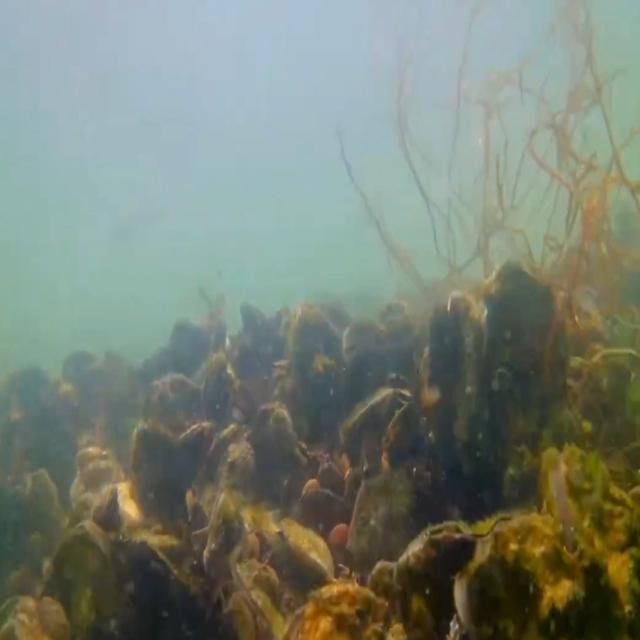Oyster-Closed: (366, 511, 513, 640), (230, 559, 285, 640), (203, 483, 246, 580), (95, 482, 121, 534)
Oyster-Indeterminate: (454, 512, 626, 640), (483, 254, 568, 447), (37, 518, 129, 640), (428, 290, 487, 450), (122, 537, 208, 640), (129, 418, 192, 538), (347, 469, 416, 570), (20, 467, 64, 577), (281, 517, 336, 582)
Oyster-Open: (538, 445, 640, 637), (339, 384, 420, 470)
